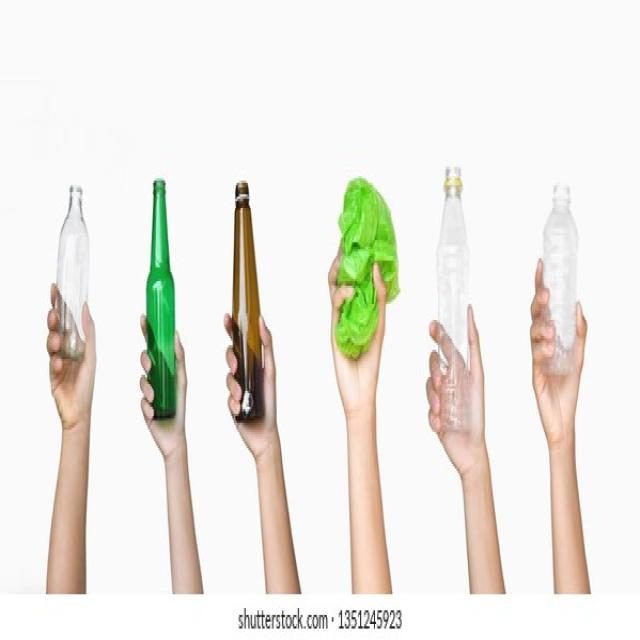glass: (133, 174, 185, 423), (227, 174, 266, 427), (57, 171, 92, 368)
plastic: (434, 162, 485, 434), (336, 174, 396, 366), (542, 181, 581, 400)
